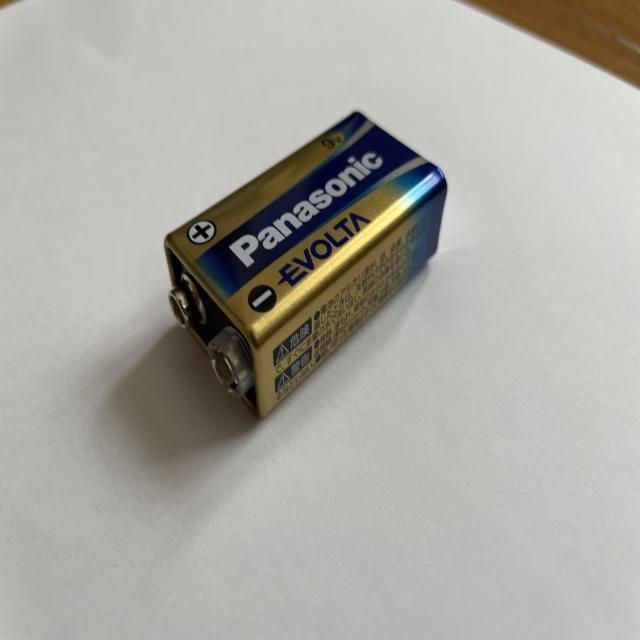9V: (160, 111, 449, 422)
